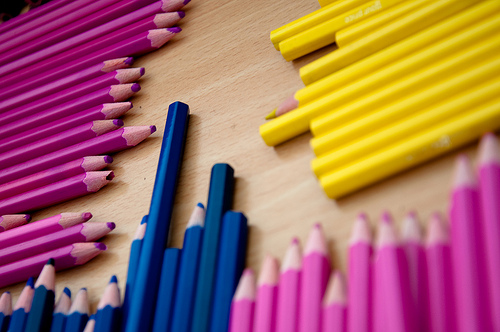pen_tip: (115, 121, 163, 150)
